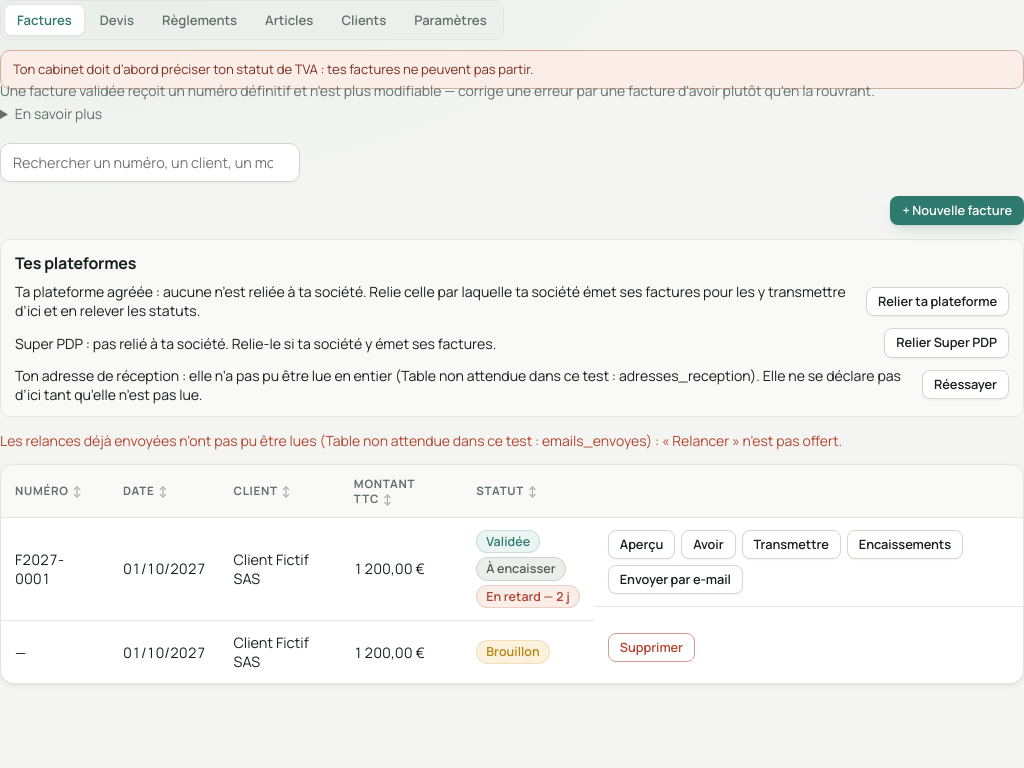
Test: FacturesTab en mode client — le garde des mots › la transmission d’une facture, statut de TVA à préciser : rien du cabinet dans ce que lit le client
expect the text "F2027-0001" is shown: met, box [15, 550, 64, 588]
Click the button "Transmettre". click: coordinates (791, 544)
box: [742, 530, 841, 559]
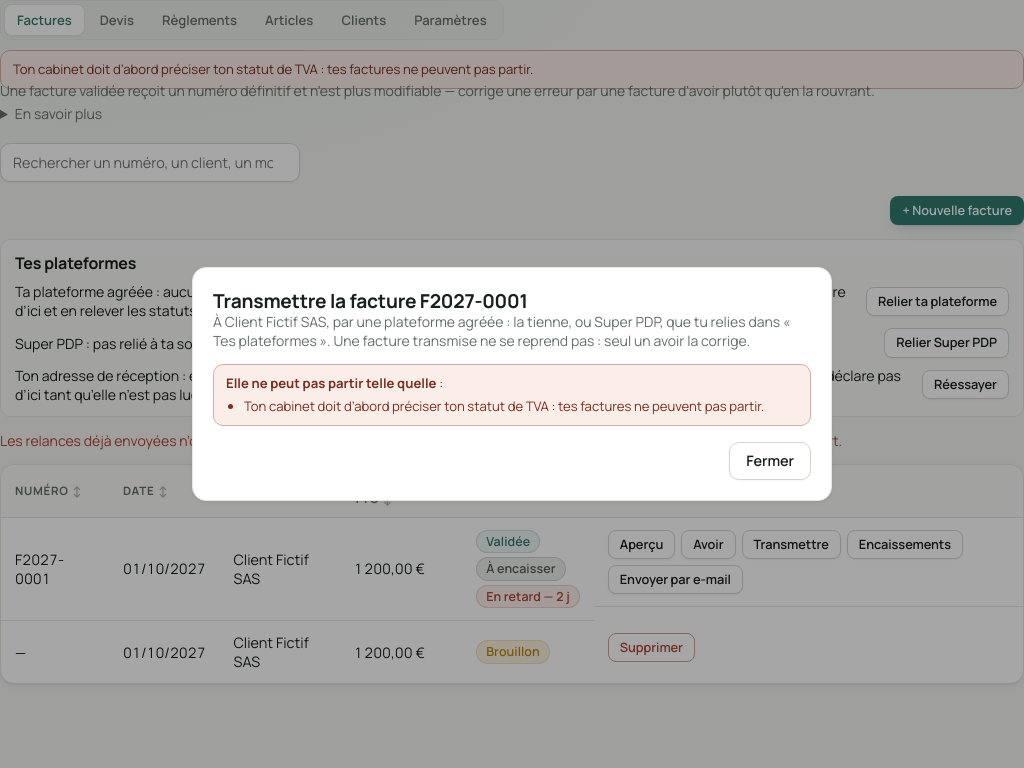
expect the text "Elle ne peut pas partir telle quelle" is shown: met, box [226, 374, 436, 392]
